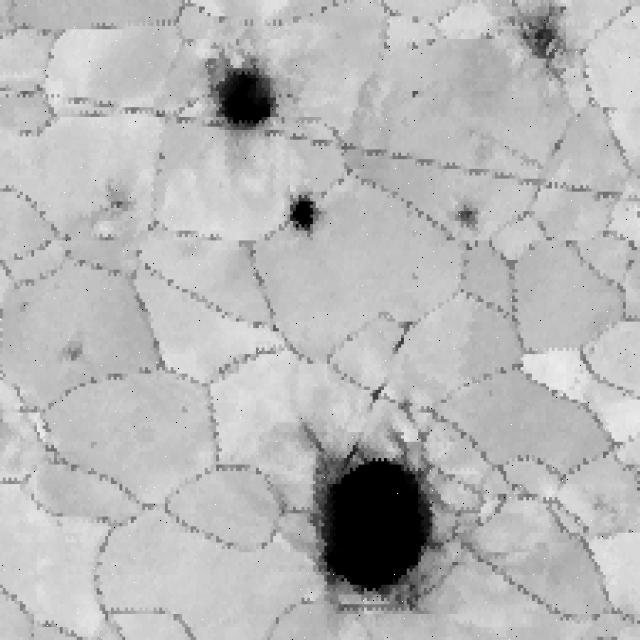good_void: (297, 398, 477, 616), (199, 49, 291, 150), (500, 4, 575, 85), (276, 193, 331, 238), (55, 330, 94, 374), (381, 316, 415, 364), (97, 180, 135, 222), (456, 206, 491, 237), (358, 383, 387, 413), (547, 135, 565, 162), (404, 83, 423, 108), (622, 253, 637, 276)
